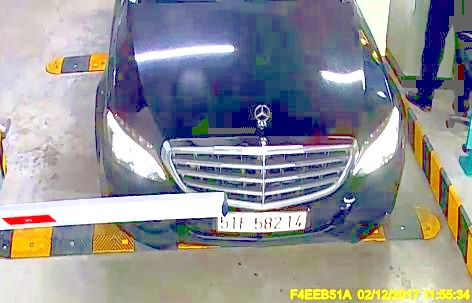plate: (219, 209, 308, 234)
